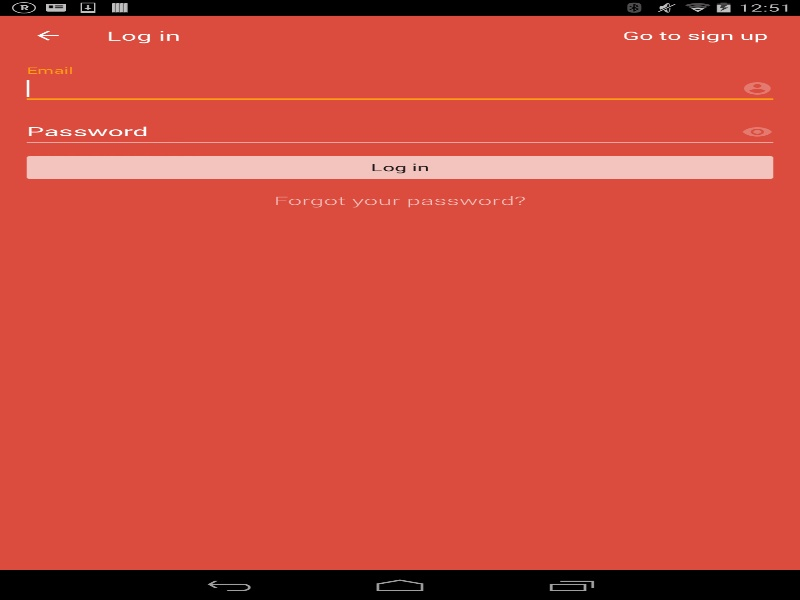Button: (21, 152, 778, 182), (10, 15, 85, 55), (736, 118, 778, 146)
Input: (21, 73, 778, 104), (21, 116, 778, 147)
